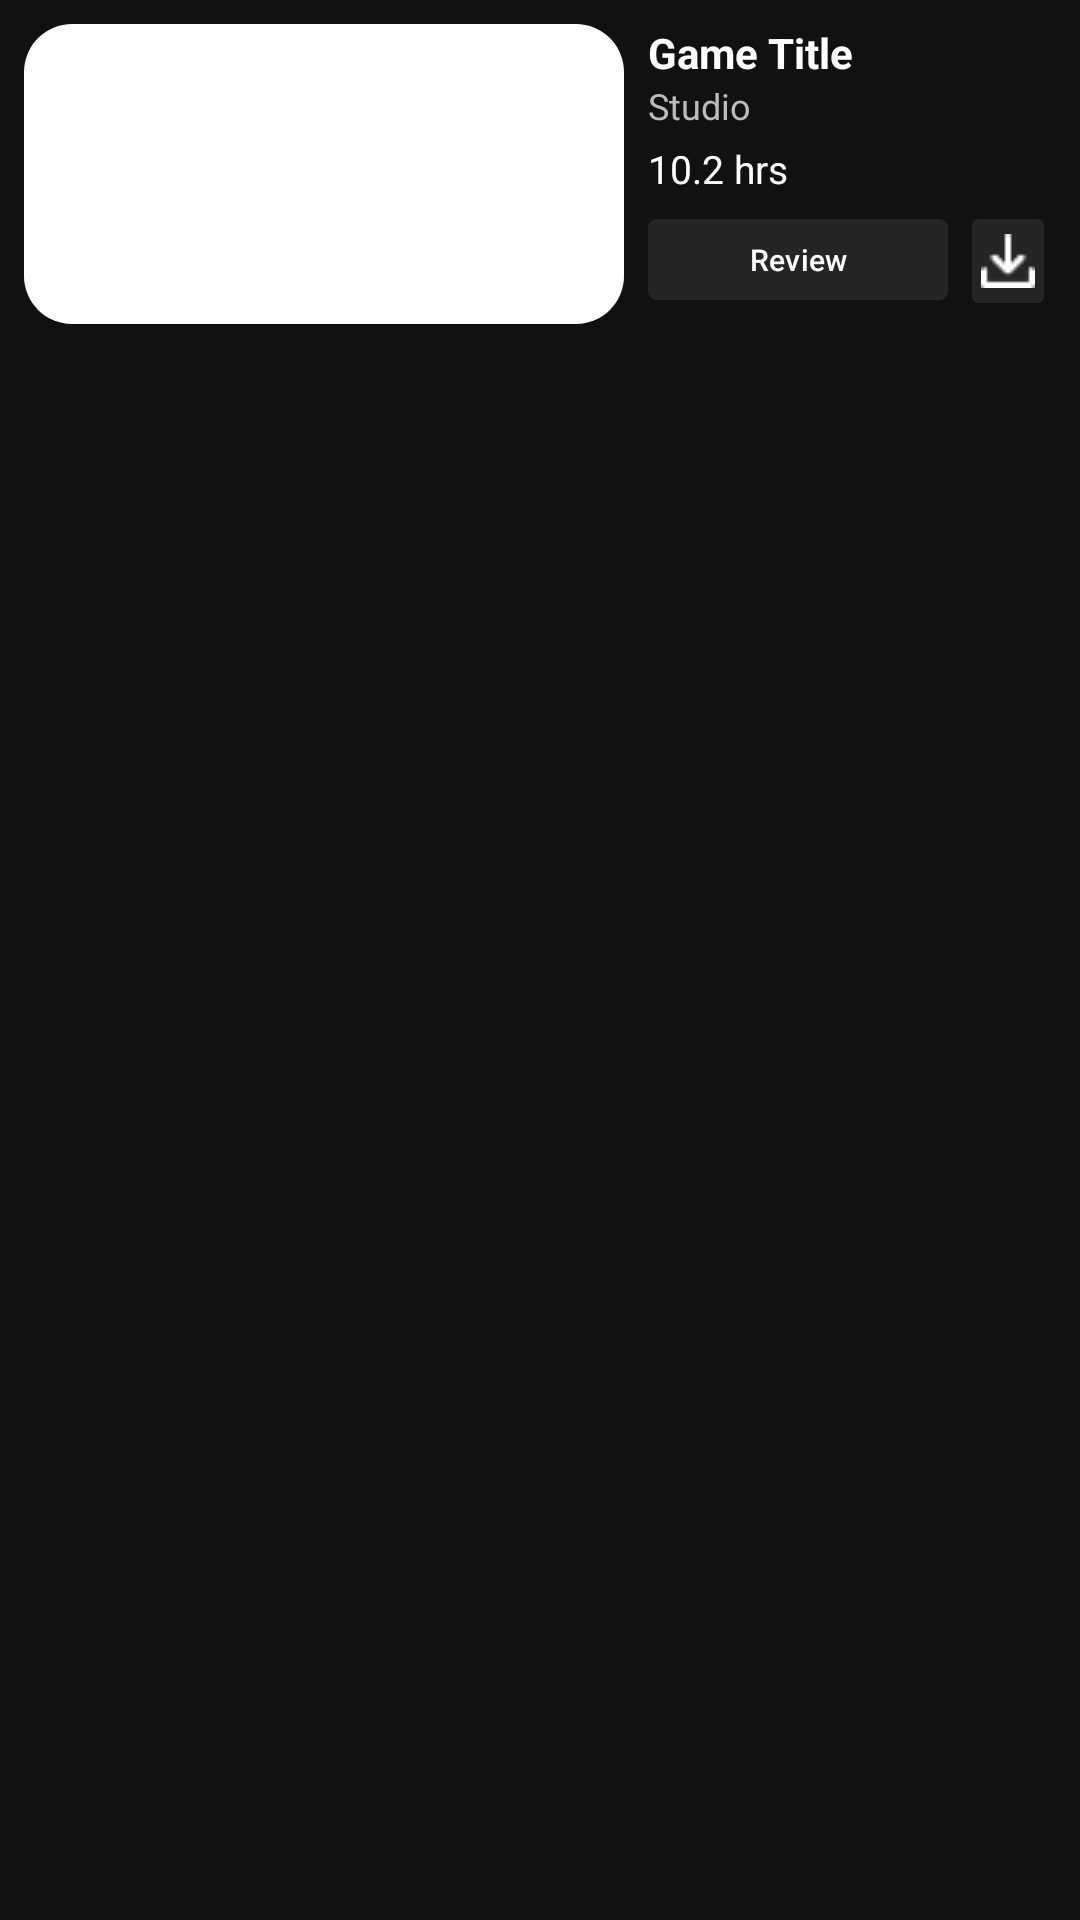

Icons on this 1080×1920 Android screen, each with the point to tap as [x,y]:
download: [1008,261]
